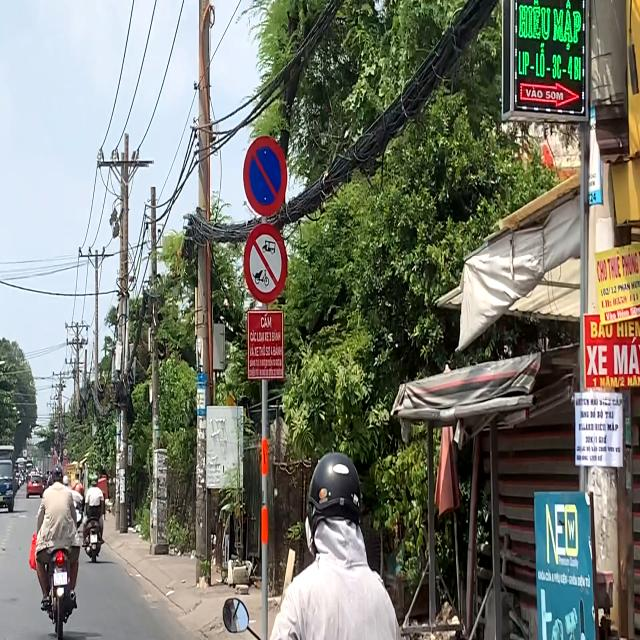P.131a: (241, 134, 289, 218)
